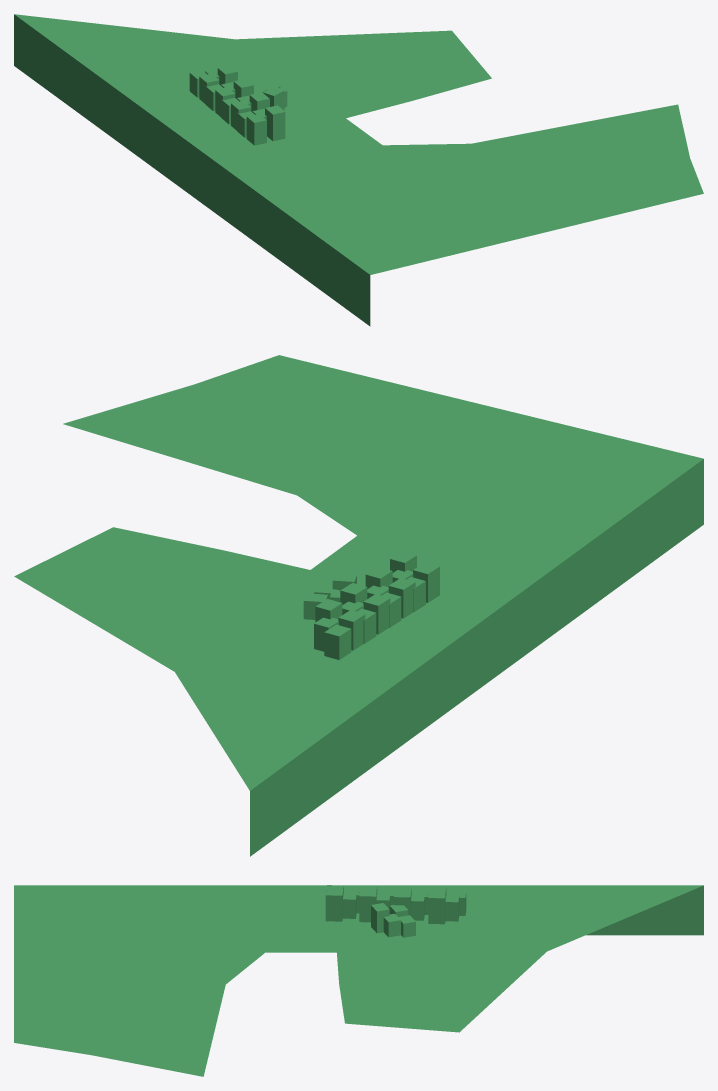
File: green.fbx
3 renders of one model, top to bottom at view 1: azimuth 30°, elevation 25°; view 2: azimuth 150°, elevation 25°; view 3: azimuth 270°, elevation 25°, orthographic. The views are drawn at different scales.
Parts seen in each view (by area): view 1: pCube19; view 2: pCube19; view 3: pCube19.
Part boxes in pixels (box(x1,y1,x2,y2)): pCube19: box(14, 14, 703, 326); pCube19: box(14, 355, 703, 856); pCube19: box(14, 885, 703, 1076).
Size of the model in its own units: 164 by 30.36 by 250.
